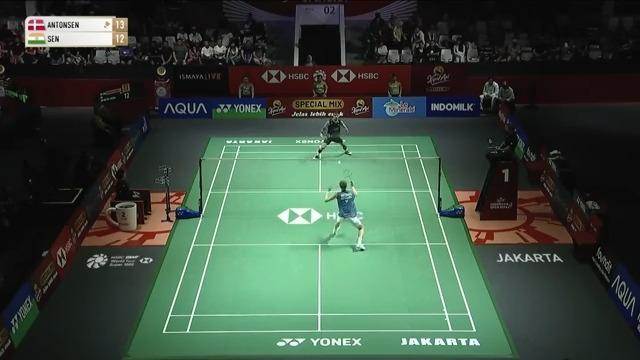Shuttlecock: (336, 154, 346, 166)
